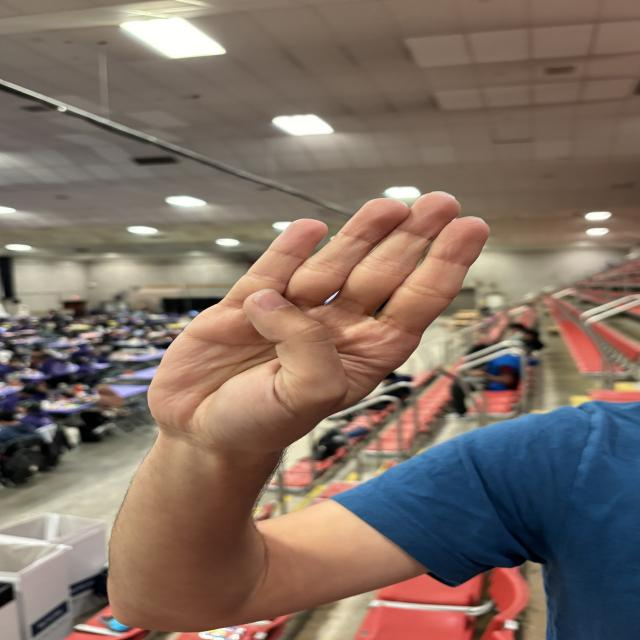B: (140, 179, 500, 444)
